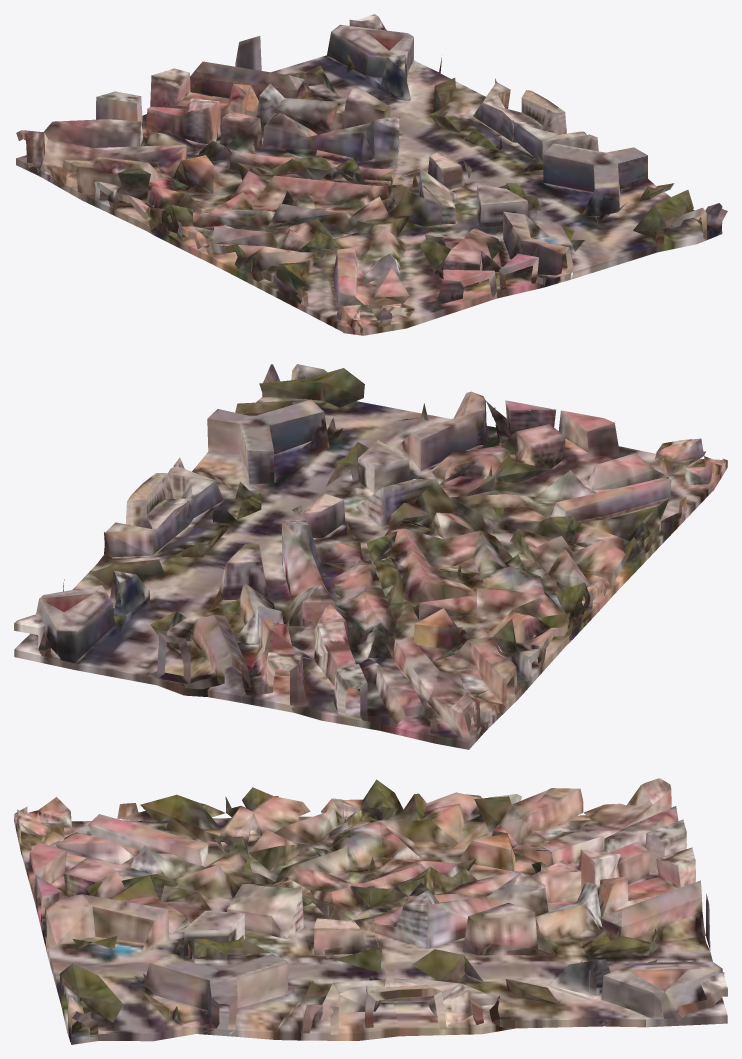
3 views of the same model, one above another, from view 1: azimuth 30°, elevation 25°; view 2: azimuth 150°, elevation 25°; view 3: azimuth 270°, elevation 25° (orthographic). The views are drawn at different scales.
Visible parts, largest first — view 1: Mesh_0; view 2: Mesh_0; view 3: Mesh_0.
Boxes of the visible parts, x1,y1,x2,y2 form: Mesh_0: [16, 14, 727, 335]; Mesh_0: [14, 364, 727, 749]; Mesh_0: [14, 778, 727, 1044].
Bounding box in the file's own units: 271 × 35.88 × 330.
Materials: 2 (2 with a texture image).
